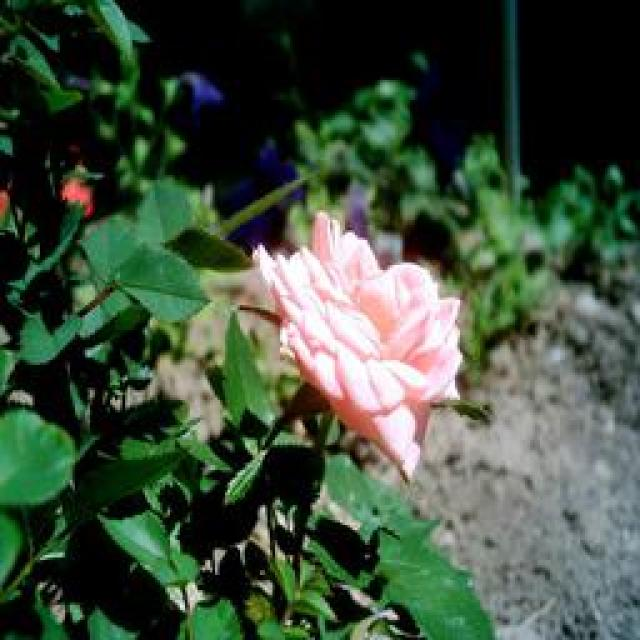rose: (248, 190, 511, 458)
